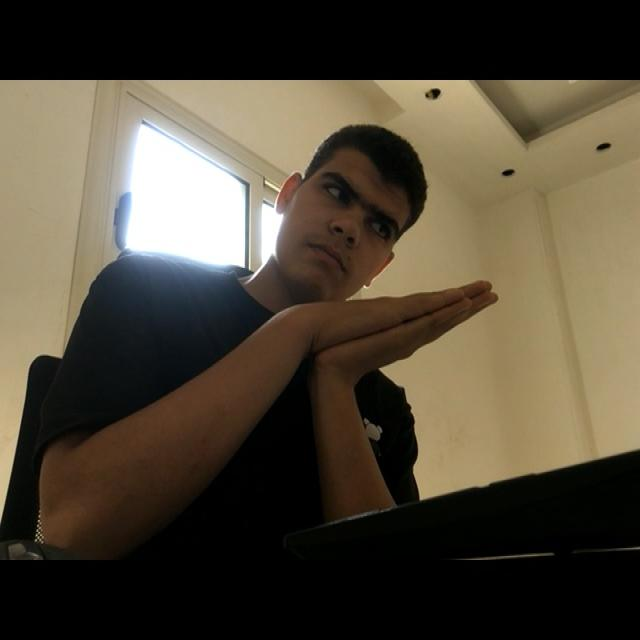Please: (238, 252, 532, 386)
